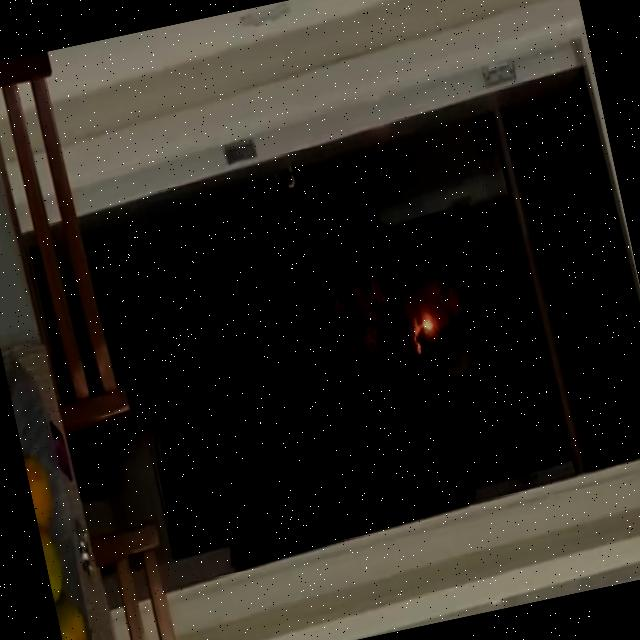fire: (416, 307, 441, 344)
